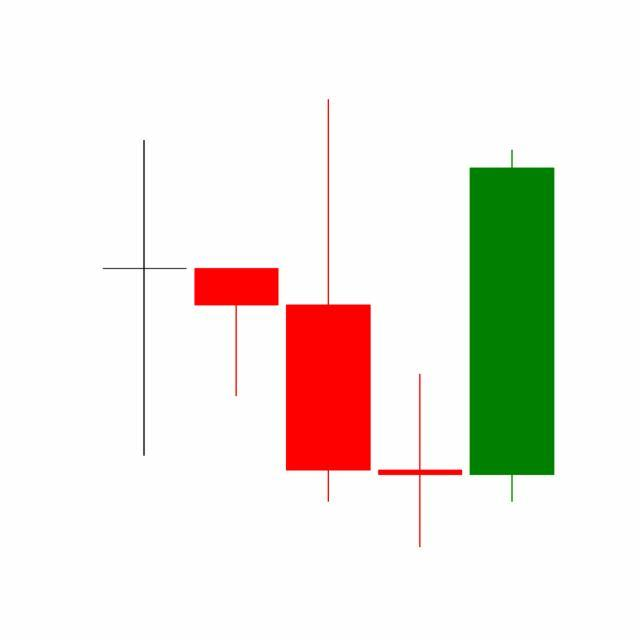Spinning Top: (374, 372, 468, 550)
